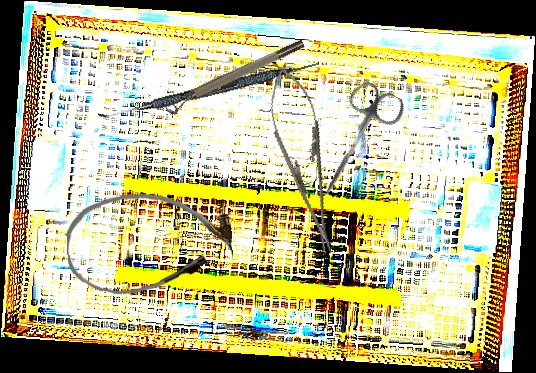Cannula: (64, 188, 235, 298)
Fixation Ring: (161, 36, 309, 118)
Iris Scissors: (303, 76, 409, 210)
Needle Holder: (257, 57, 350, 261)
Spatula Surgical: (98, 54, 320, 127)
